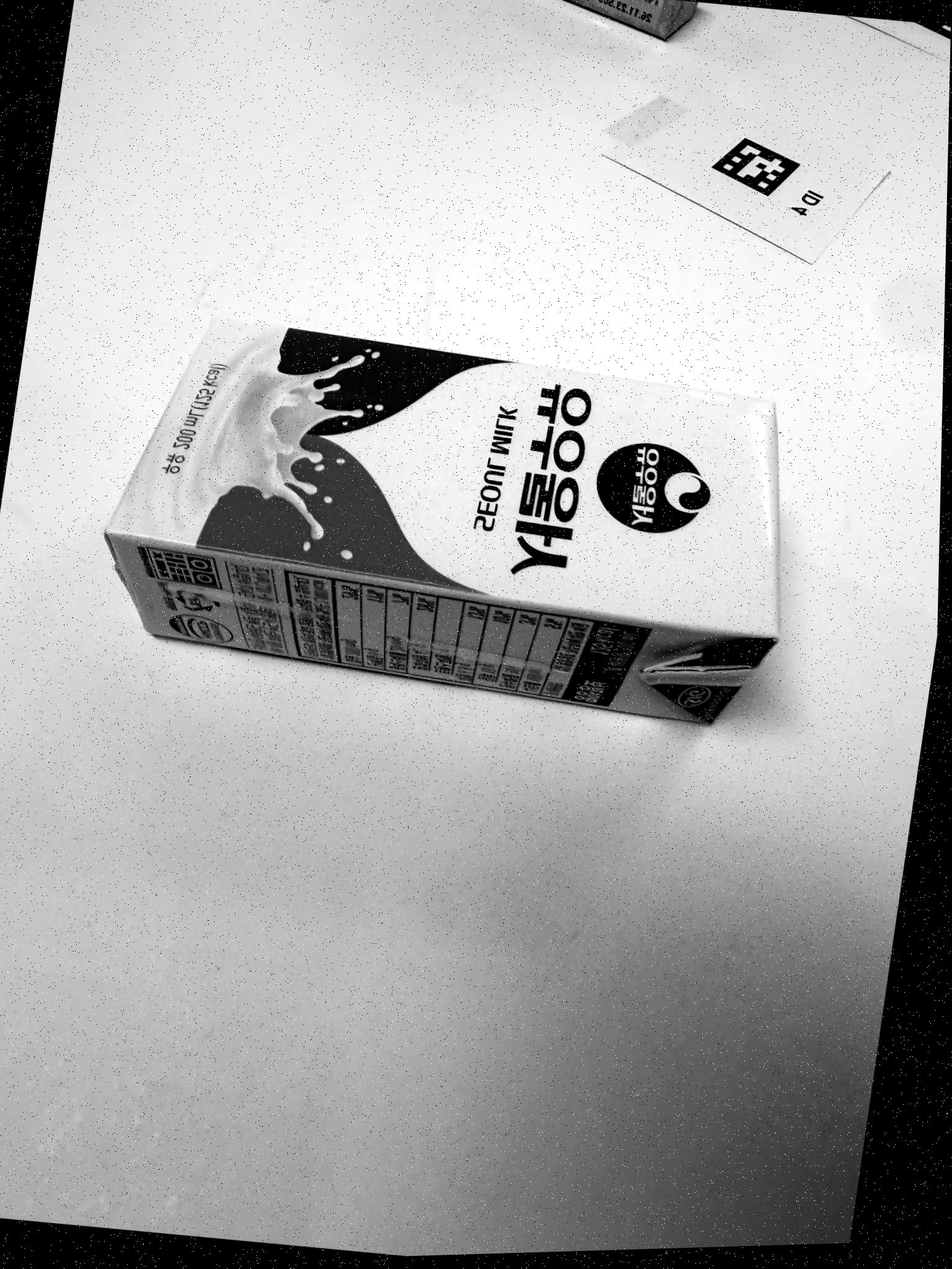milk_green: (104, 312, 779, 727)
